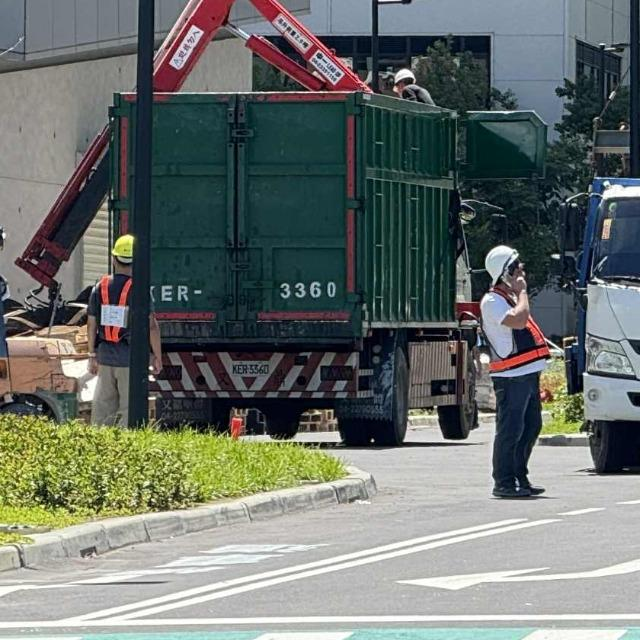Helmet: (479, 241, 531, 290)
Vest: (477, 288, 548, 385), (88, 274, 149, 356)
